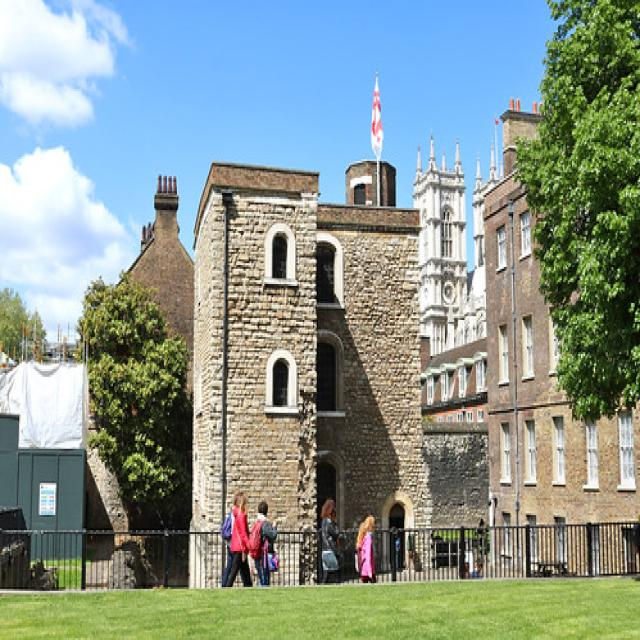building: (187, 155, 427, 591)
